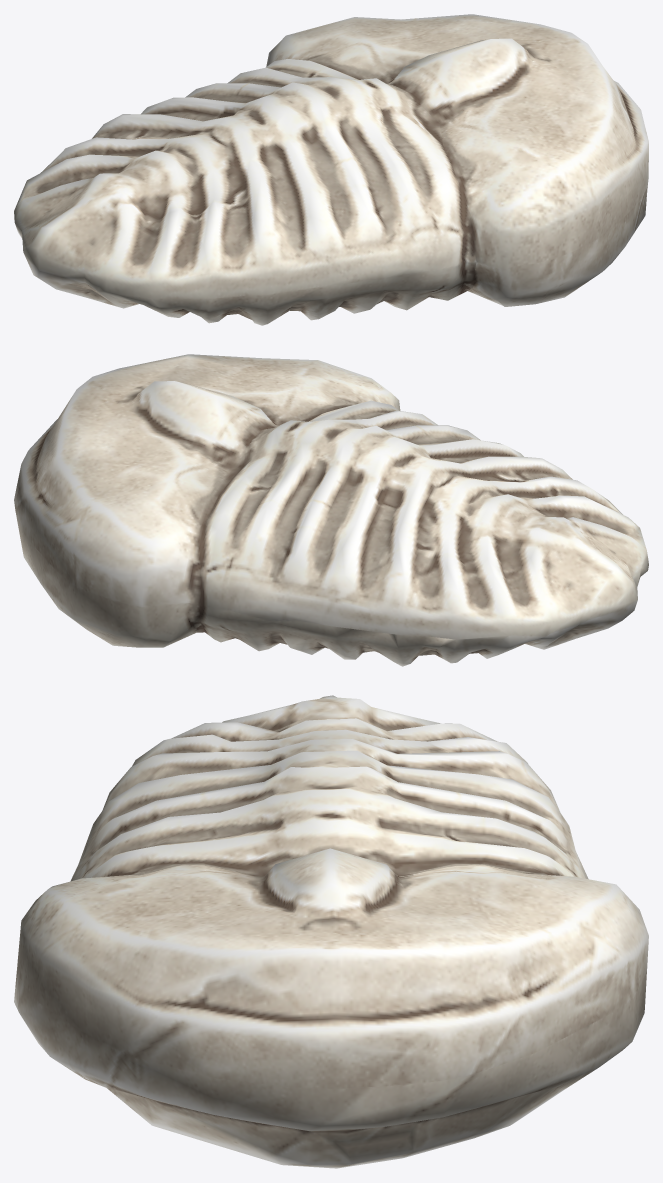
The model's file is SM_Fossil_4.fbx.
3 views of the same model, one above another, from view 1: azimuth 30°, elevation 25°; view 2: azimuth 150°, elevation 25°; view 3: azimuth 270°, elevation 25° (orthographic). The views are drawn at different scales.
Visible parts, largest first — view 1: SM_Fossil_4; view 2: SM_Fossil_4; view 3: SM_Fossil_4.
Part boxes in pixels (box(x1,y1,x2,y2)): SM_Fossil_4: box(14, 14, 648, 325); SM_Fossil_4: box(14, 354, 648, 666); SM_Fossil_4: box(14, 695, 648, 1168).
Size of the model in its own units: 0.4823 by 0.1705 by 0.3596.
